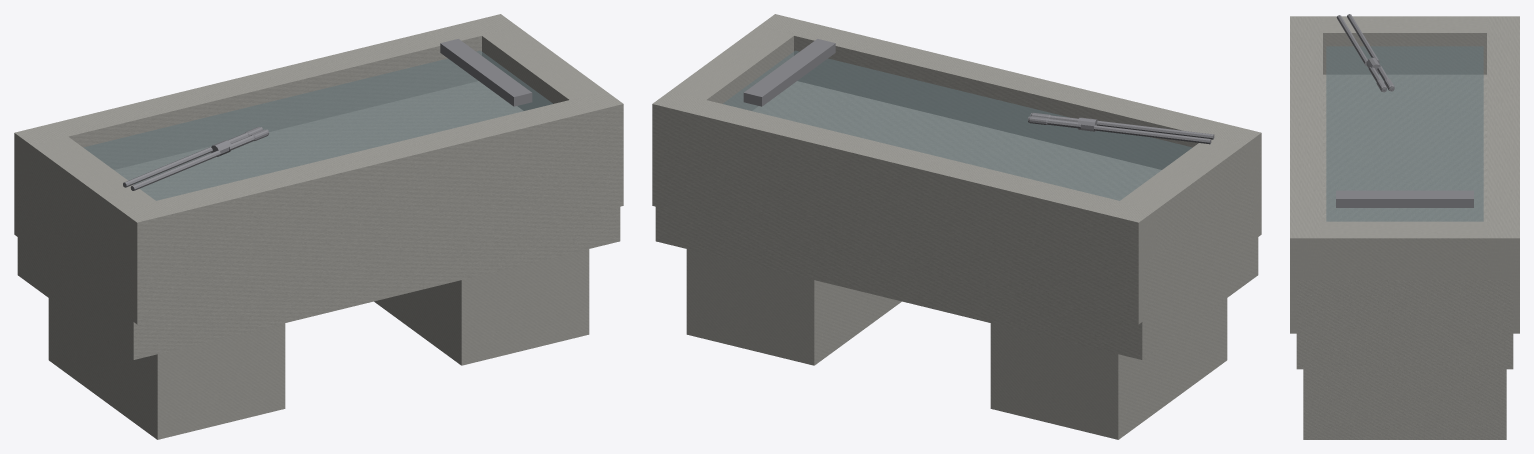
File: stone-quench-trough-1-6-m.glb
The picture shows the model from 3 angles, left to right: view 1: azimuth 30°, elevation 25°; view 2: azimuth 150°, elevation 25°; view 3: azimuth 270°, elevation 25°; orthographic projection. The views are drawn at different scales.
Visible parts, largest first — view 1: blacksmith-forge-and-armoury-quench-trough; view 2: blacksmith-forge-and-armoury-quench-trough; view 3: blacksmith-forge-and-armoury-quench-trough.
Part boxes in pixels (x1,y1,x2,y2): blacksmith-forge-and-armoury-quench-trough: [14, 14, 623, 439]; blacksmith-forge-and-armoury-quench-trough: [652, 14, 1261, 439]; blacksmith-forge-and-armoury-quench-trough: [1290, 14, 1519, 439].
Size of the model in its own units: 1.6 by 0.768 by 0.7001.
3 materials, 1 textured.
